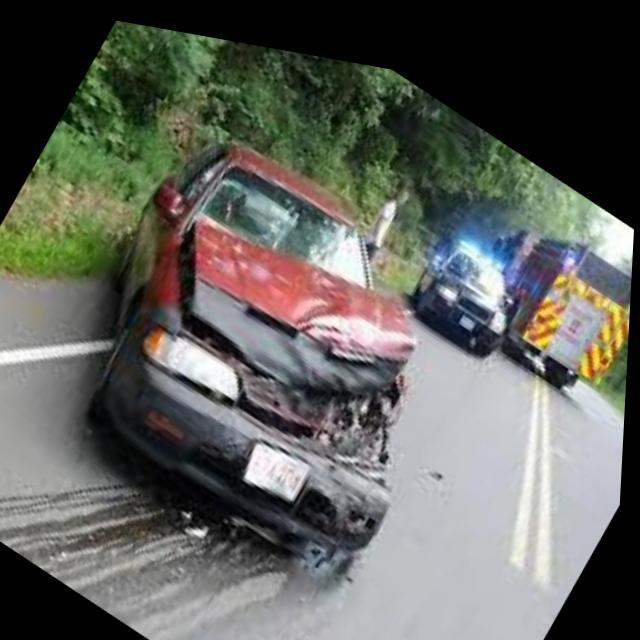crash: (182, 214, 419, 559)
